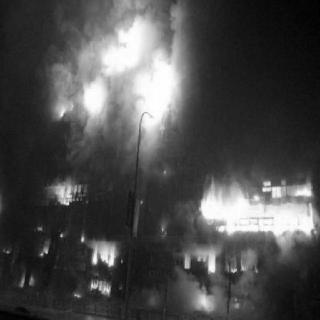Fire: (54, 91, 78, 127)
